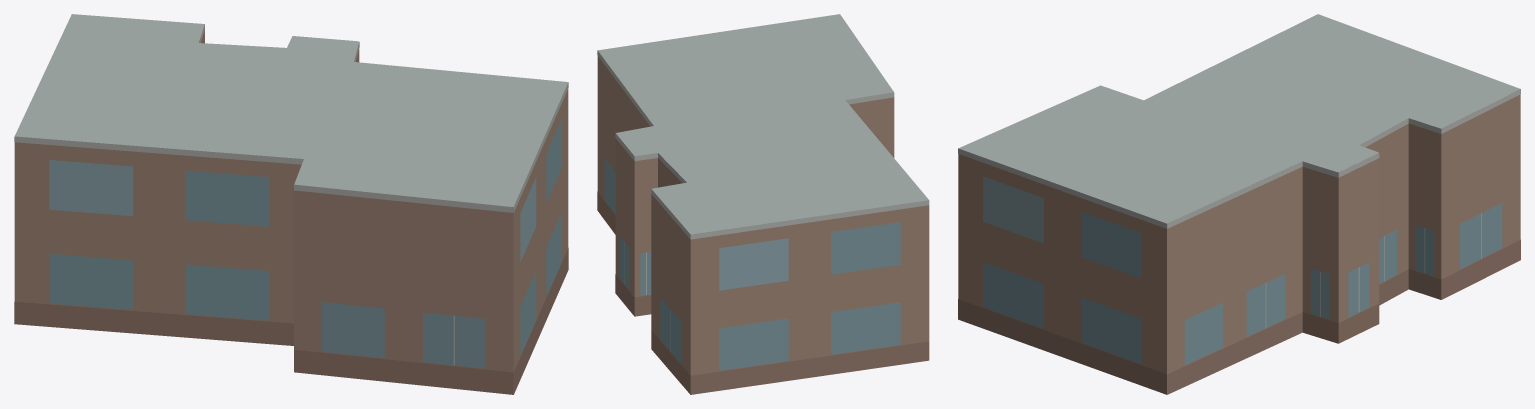
The model's file is survey-upis-32474169.glb.
3 views of the same model, side by side, from view 1: azimuth 30°, elevation 25°; view 2: azimuth 150°, elevation 25°; view 3: azimuth 270°, elevation 25° (orthographic). The views are drawn at different scales.
Parts seen in each view (by area): view 1: survey-upis-32474169.tmp; view 2: survey-upis-32474169.tmp; view 3: survey-upis-32474169.tmp.
Part boxes in pixels (box(x1,y1,x2,y2)): survey-upis-32474169.tmp: box(14, 14, 568, 394); survey-upis-32474169.tmp: box(597, 14, 929, 394); survey-upis-32474169.tmp: box(958, 14, 1520, 394).
Bounding box in the file's own units: 20.76 × 7.9 × 23.54.
